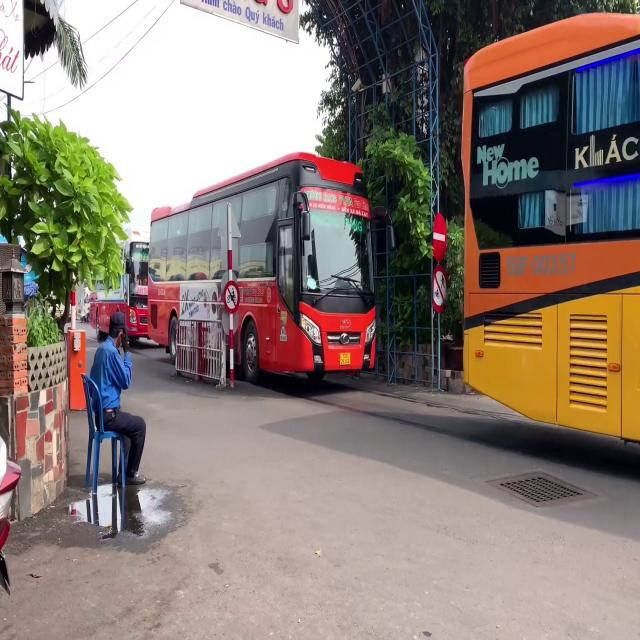bien_vang: (339, 350, 352, 367)
